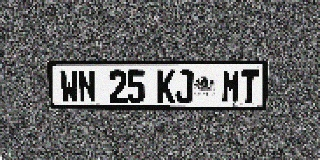2: (109, 70, 127, 103)
5: (127, 70, 145, 103)
J: (175, 70, 193, 103)
K: (157, 70, 175, 103)
M: (221, 70, 241, 103)
N: (77, 70, 96, 103)
T: (240, 70, 260, 103)
W: (59, 70, 79, 103)
